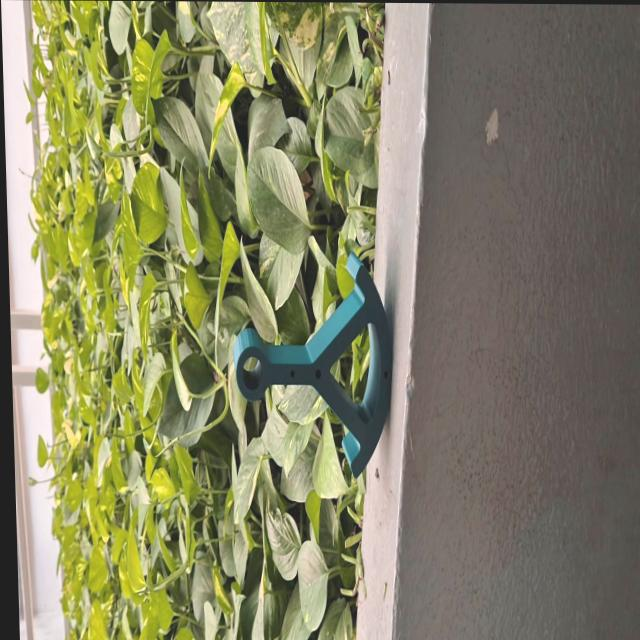haptic: (228, 249, 395, 481)
